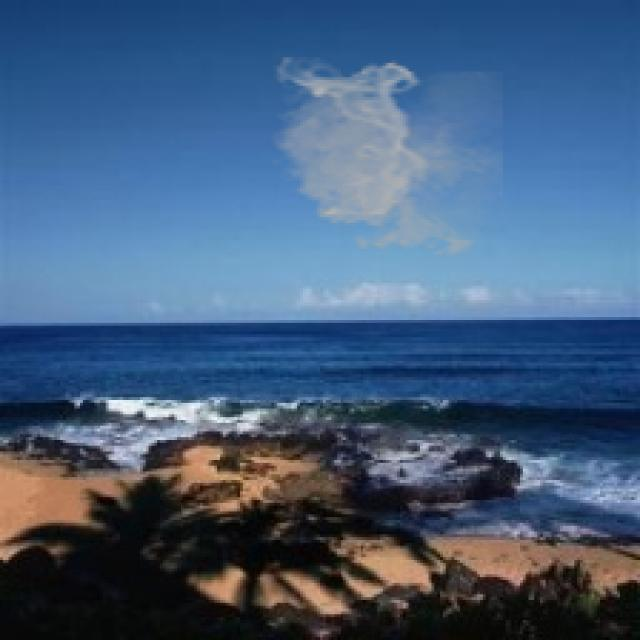Smoke: (268, 57, 503, 263)
